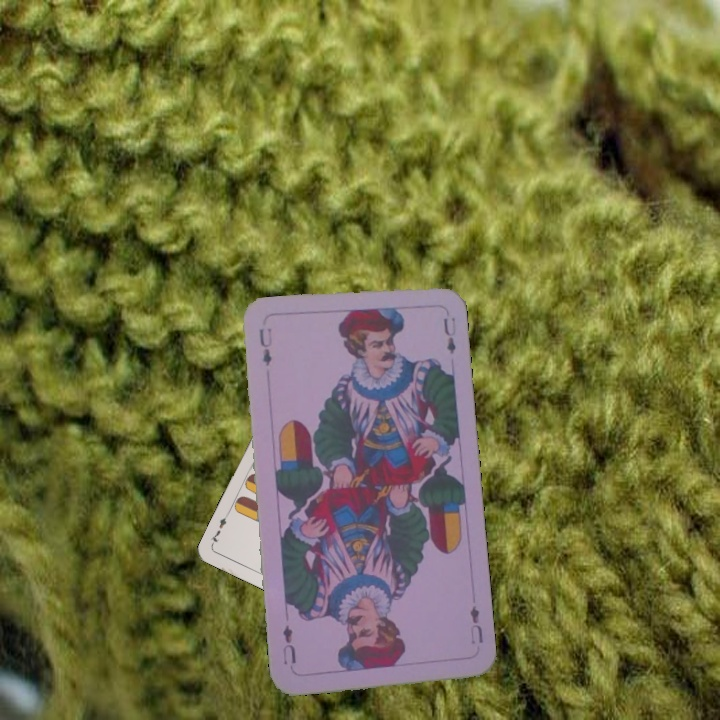EU: (255, 323, 275, 369), (466, 602, 486, 646)
